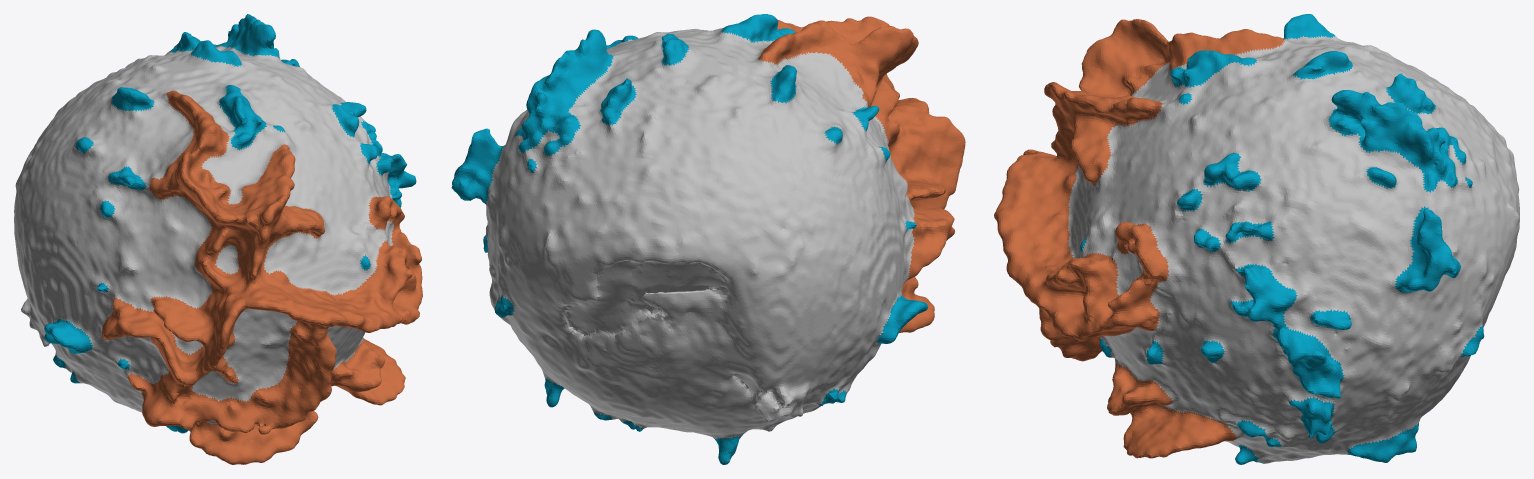
The picture shows the model from 3 angles, left to right: view 1: azimuth 30°, elevation 25°; view 2: azimuth 150°, elevation 25°; view 3: azimuth 270°, elevation 25°; orthographic projection. The views are drawn at different scales.
Bounding box in the file's own units: 150 × 138 × 166.
